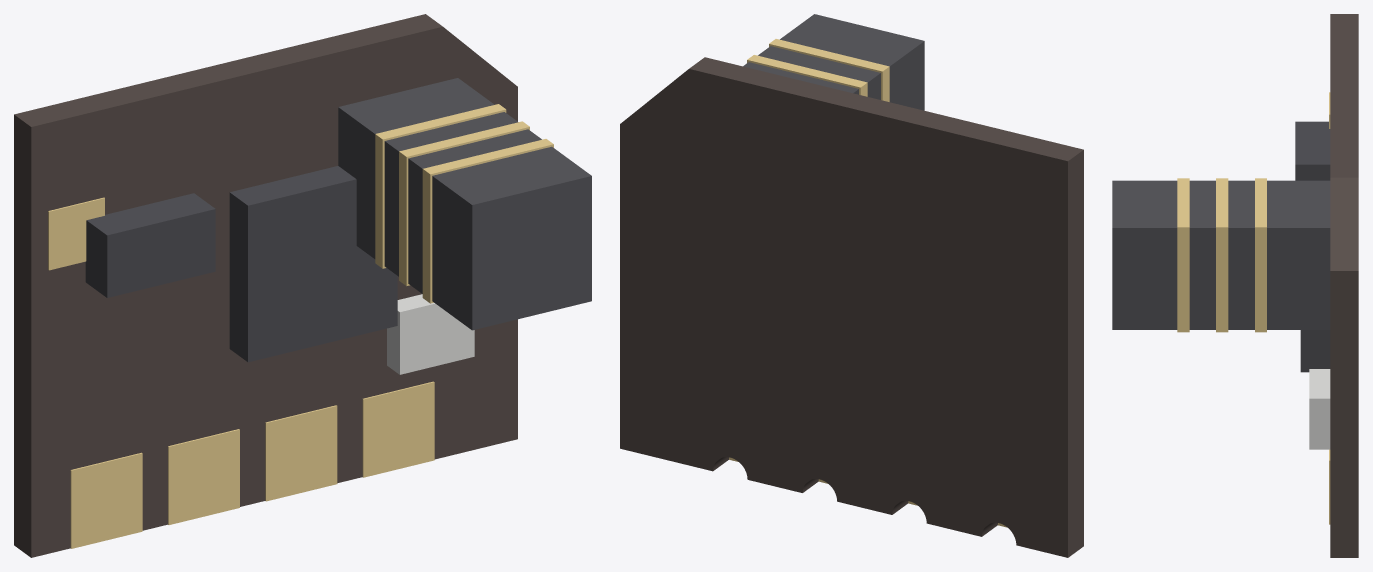
3 views of the same model, side by side, from view 1: azimuth 30°, elevation 25°; view 2: azimuth 150°, elevation 25°; view 3: azimuth 270°, elevation 25° (orthographic). The views are drawn at different scales.
Visible parts, largest first — view 1: c_191411, c_161619, ic, c_d8a84c, c_ccccc6; view 2: c_191411, c_161619, c_d8a84c; view 3: c_161619, c_191411, c_d8a84c, ic, c_ccccc6.
Boxes of the visible parts, left/top/right/bottom form: c_191411: left=14, top=14, right=517, bottom=557; c_161619: left=338, top=78, right=591, bottom=330; ic: left=85, top=166, right=397, bottom=362; c_d8a84c: left=48, top=104, right=553, bottom=548; c_ccccc6: left=387, top=294, right=474, bottom=374; c_191411: left=620, top=57, right=1083, bottom=557; c_161619: left=743, top=14, right=924, bottom=110; c_d8a84c: left=729, top=39, right=1007, bottom=527; c_161619: left=1112, top=180, right=1330, bottom=329; c_191411: left=1330, top=14, right=1358, bottom=557; c_d8a84c: left=1177, top=92, right=1330, bottom=524; ic: left=1295, top=121, right=1330, bottom=372; c_ccccc6: left=1309, top=369, right=1330, bottom=449.
Size of the model in its own units: 0.013 by 0.011 by 0.007.
